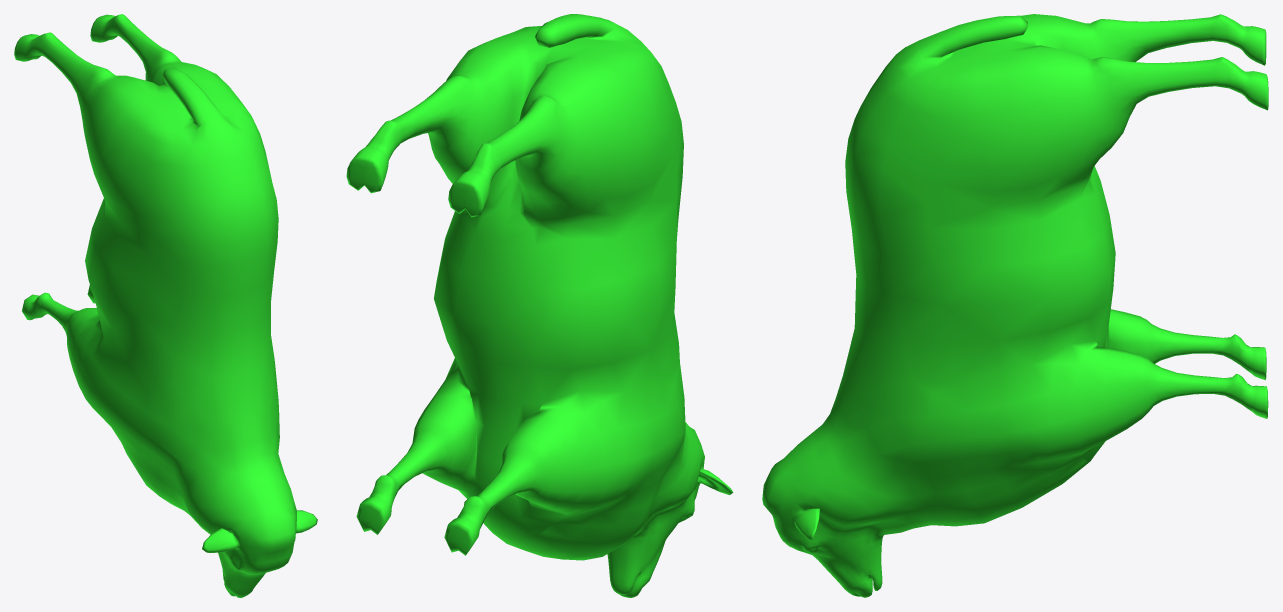
The model's file is Sheep.obj.
3 renders of one model, left to right at view 1: azimuth 30°, elevation 25°; view 2: azimuth 150°, elevation 25°; view 3: azimuth 270°, elevation 25°, orthographic. The views are drawn at different scales.
Parts seen in each view (by area): view 1: Sheep; view 2: Sheep; view 3: Sheep.
Boxes of the visible parts, bbox=[...] form: Sheep: bbox=[14, 14, 317, 597]; Sheep: bbox=[346, 14, 733, 597]; Sheep: bbox=[762, 14, 1268, 597].
Bounding box in the file's own units: 0.3334 × 1 × 0.7966.
